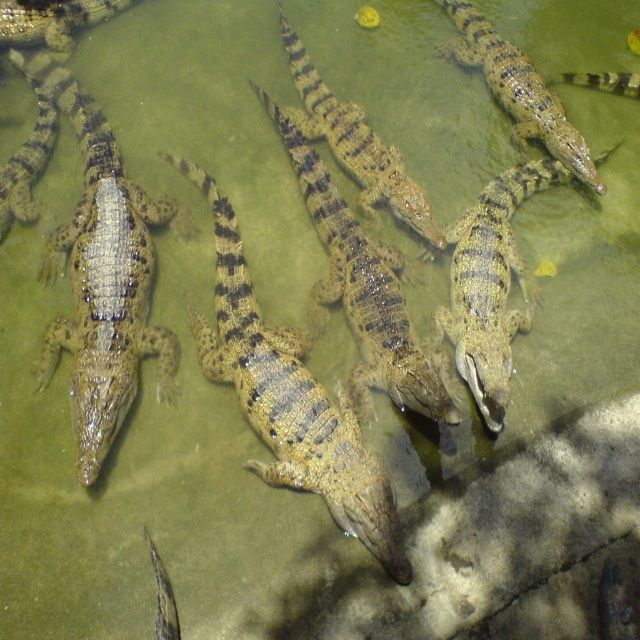Crocodile: (0, 0, 640, 587)
